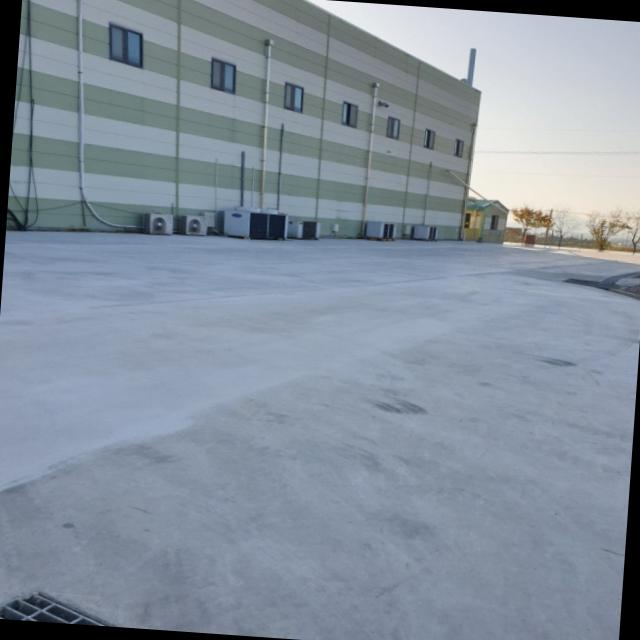cement: (0, 232, 640, 640)
